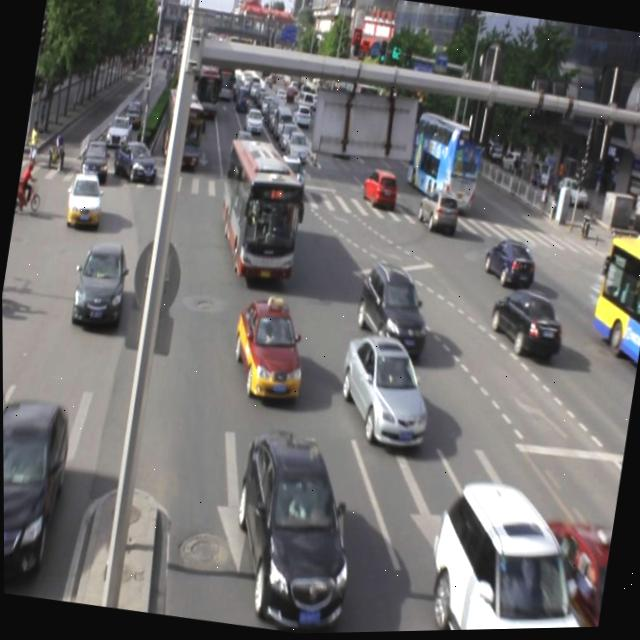car: (416, 471, 618, 633), (219, 423, 367, 636), (2, 386, 77, 581), (332, 329, 439, 451), (524, 514, 614, 631), (225, 295, 312, 405), (353, 260, 435, 360), (484, 285, 569, 366), (69, 237, 132, 331), (478, 235, 539, 293)
van: (211, 138, 310, 284), (583, 236, 640, 374)
